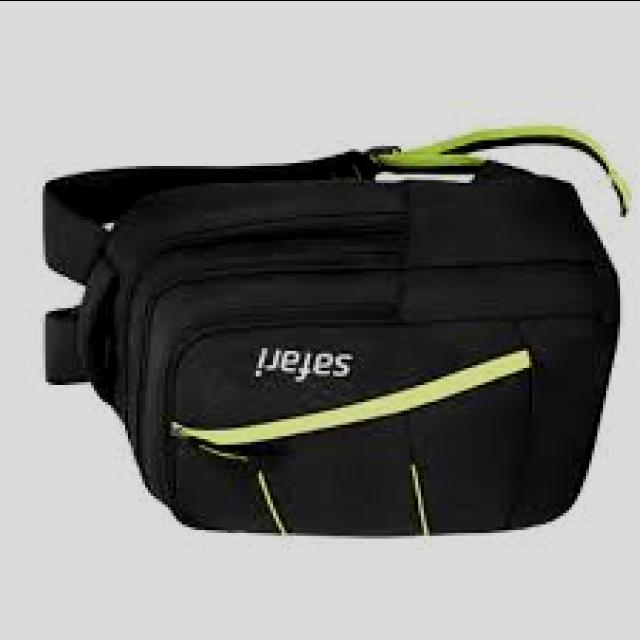backpack: (41, 126, 630, 542)
